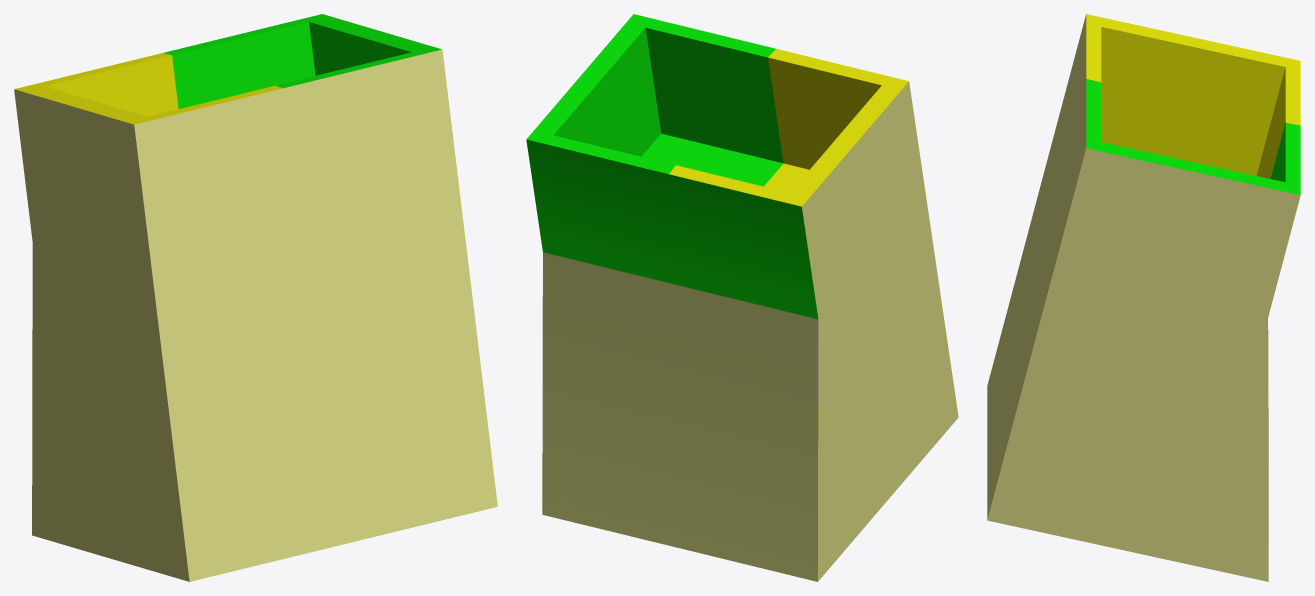
File: sari_yesil_kutu.fbx
The picture shows the model from 3 angles, left to right: view 1: azimuth 30°, elevation 25°; view 2: azimuth 150°, elevation 25°; view 3: azimuth 270°, elevation 25°; orthographic projection. The views are drawn at different scales.
Visible parts, largest first — view 1: pCube8; view 2: pCube8; view 3: pCube8.
Part boxes in pixels (x1,y1,x2,y2): pCube8: (14, 14, 497, 581); pCube8: (526, 14, 958, 581); pCube8: (987, 14, 1300, 581).
Size of the model in its own units: 4.33 by 6.51 by 4.27.
